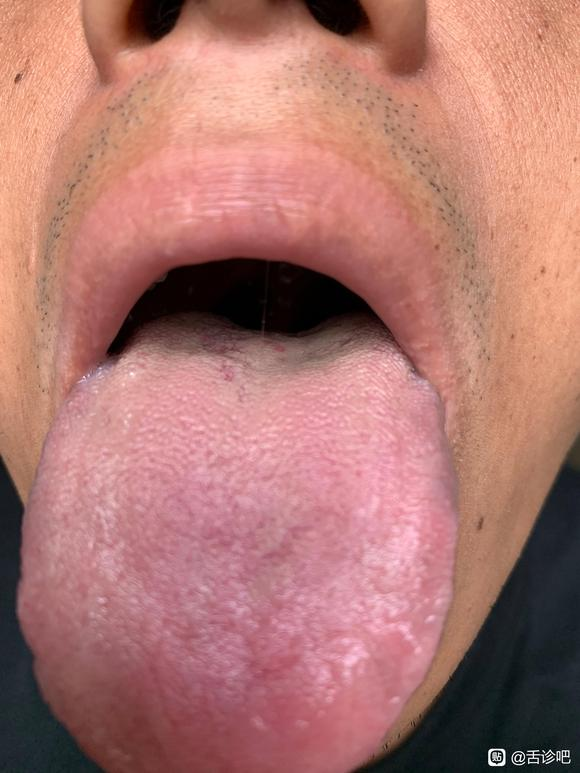huangtaishe: (17, 314, 457, 773)
pangdashe: (17, 314, 457, 773)
